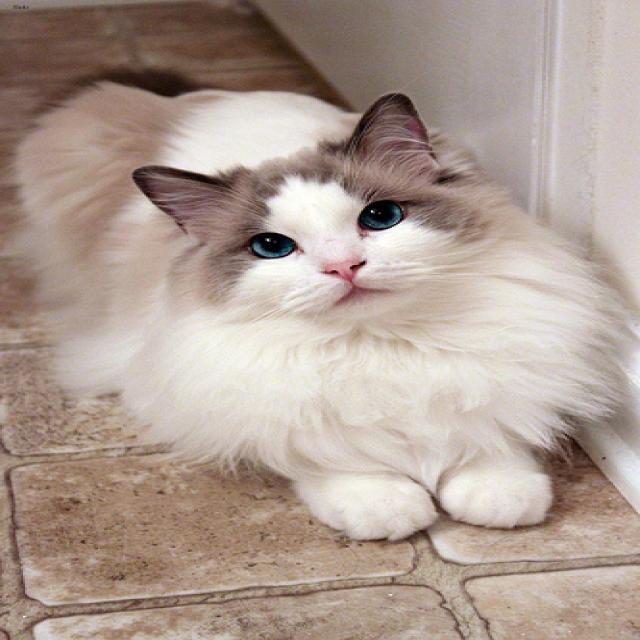Ragdoll: (129, 92, 463, 320)
